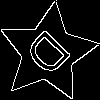D: (22, 27, 80, 85)
